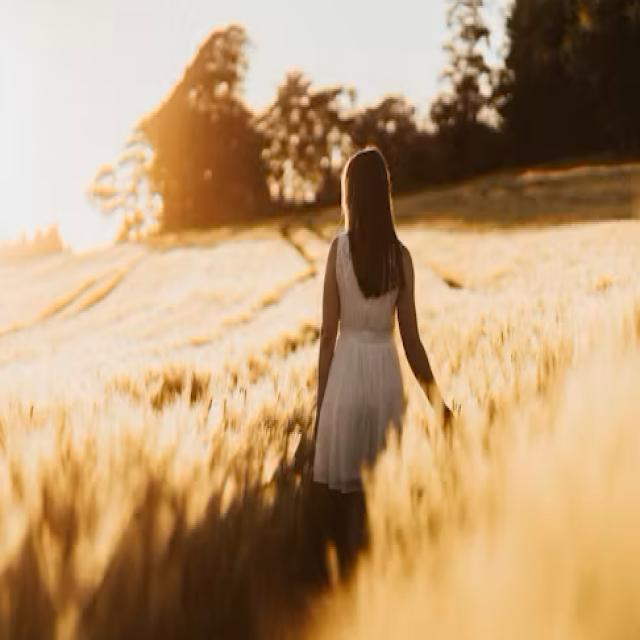Edited images: (296, 130, 448, 576)
